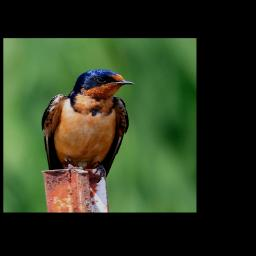Swallow: (41, 68, 135, 185)
